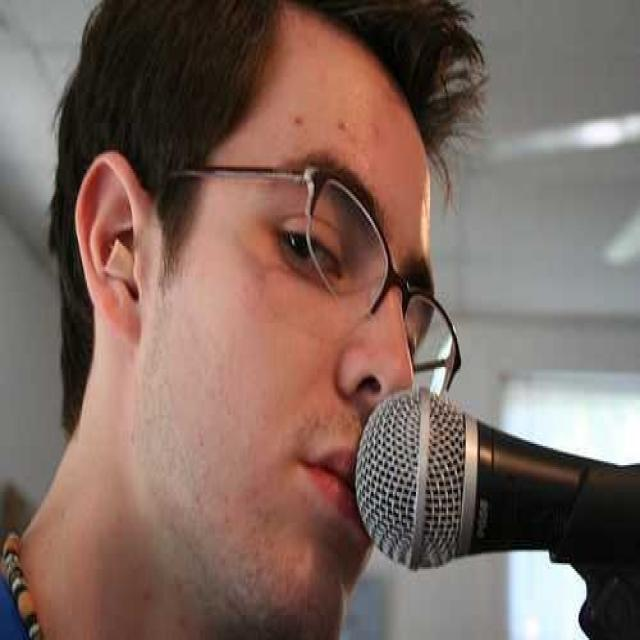microphone: (344, 373, 640, 619)
